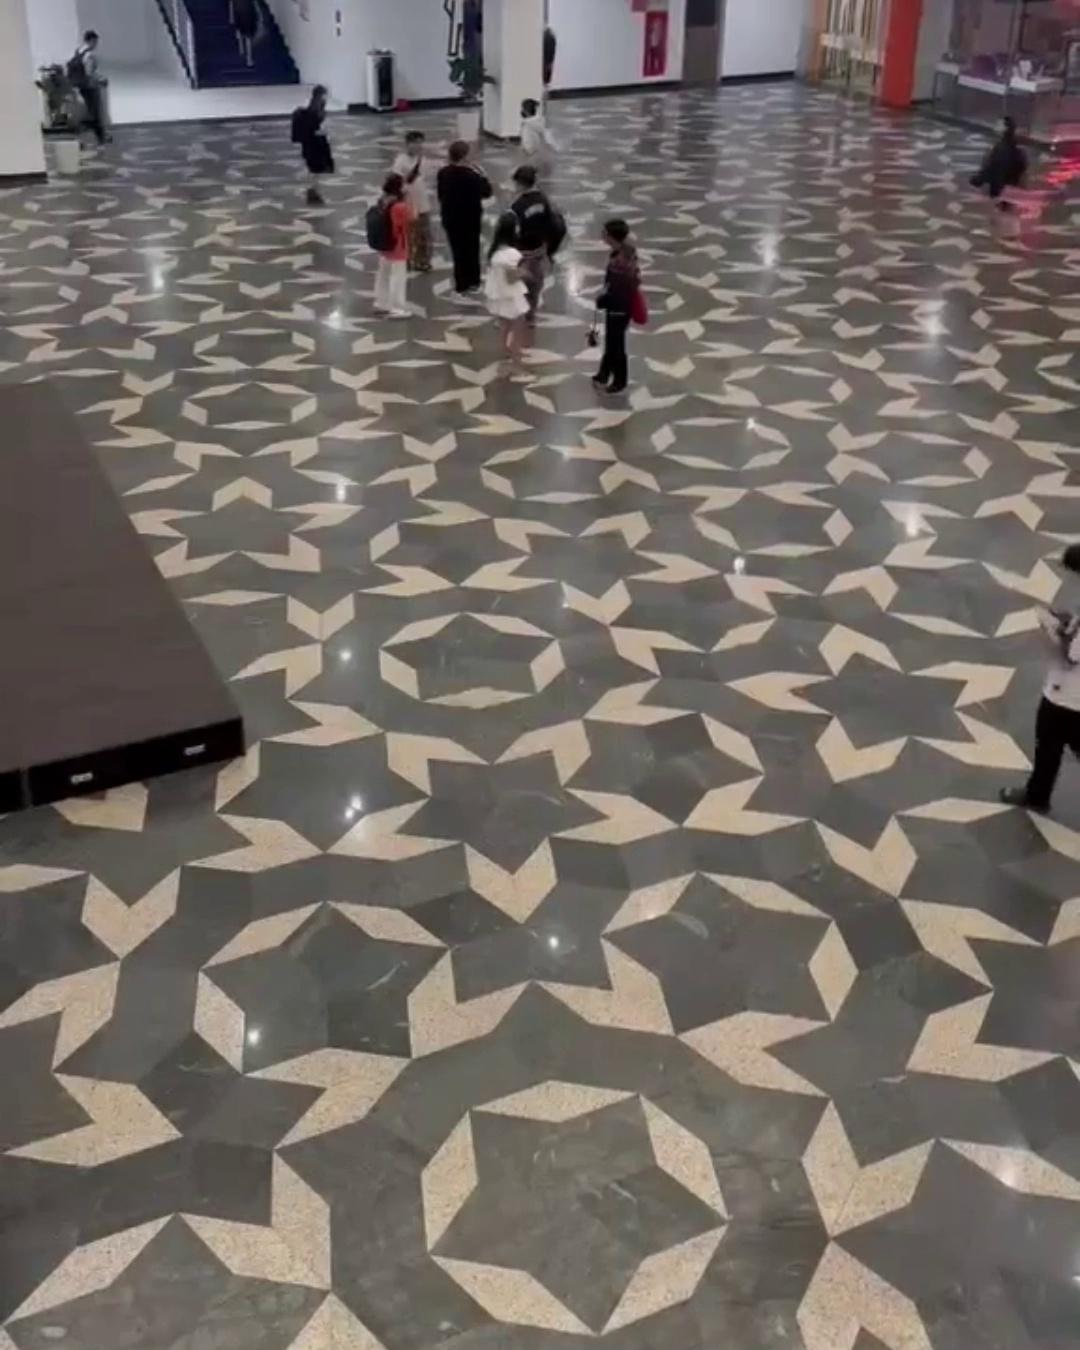your_class: (585, 220, 648, 395), (508, 168, 566, 323), (436, 141, 494, 295), (484, 212, 533, 379), (365, 173, 413, 322), (289, 85, 336, 207), (65, 32, 114, 145), (392, 132, 431, 271), (518, 97, 557, 196), (228, 2, 266, 67), (542, 24, 557, 121)
